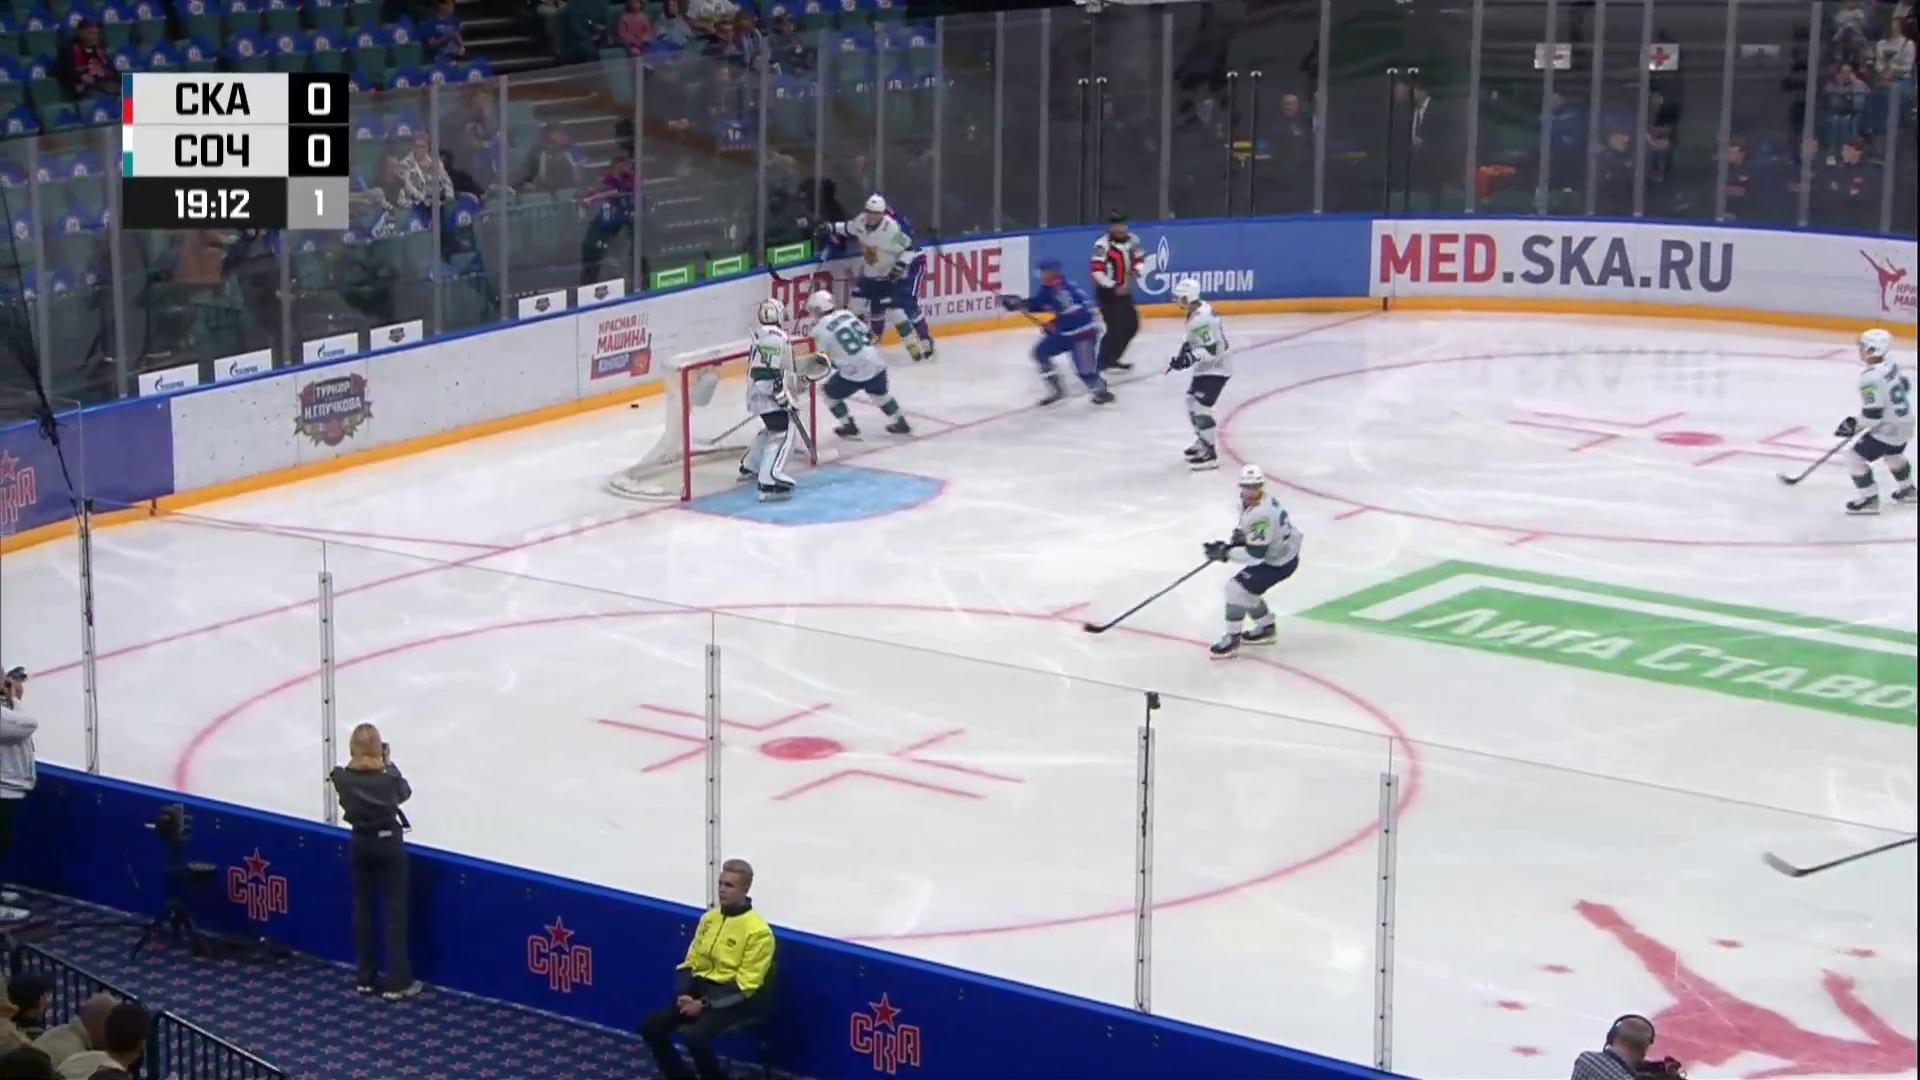ball: (630, 404, 640, 409)
